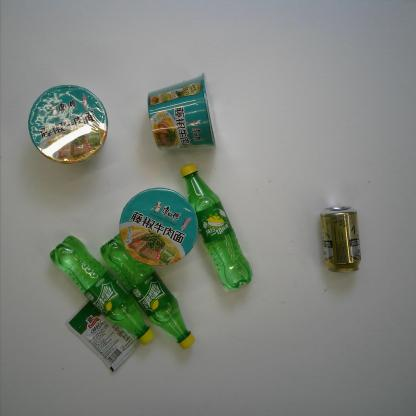Alcohol: (319, 206, 362, 274)
Drink: (49, 234, 156, 346), (99, 232, 196, 350), (179, 162, 253, 292)
Instant Noodles: (28, 84, 108, 165), (118, 187, 199, 266), (147, 71, 219, 151)
Seasoner: (64, 298, 141, 374)
